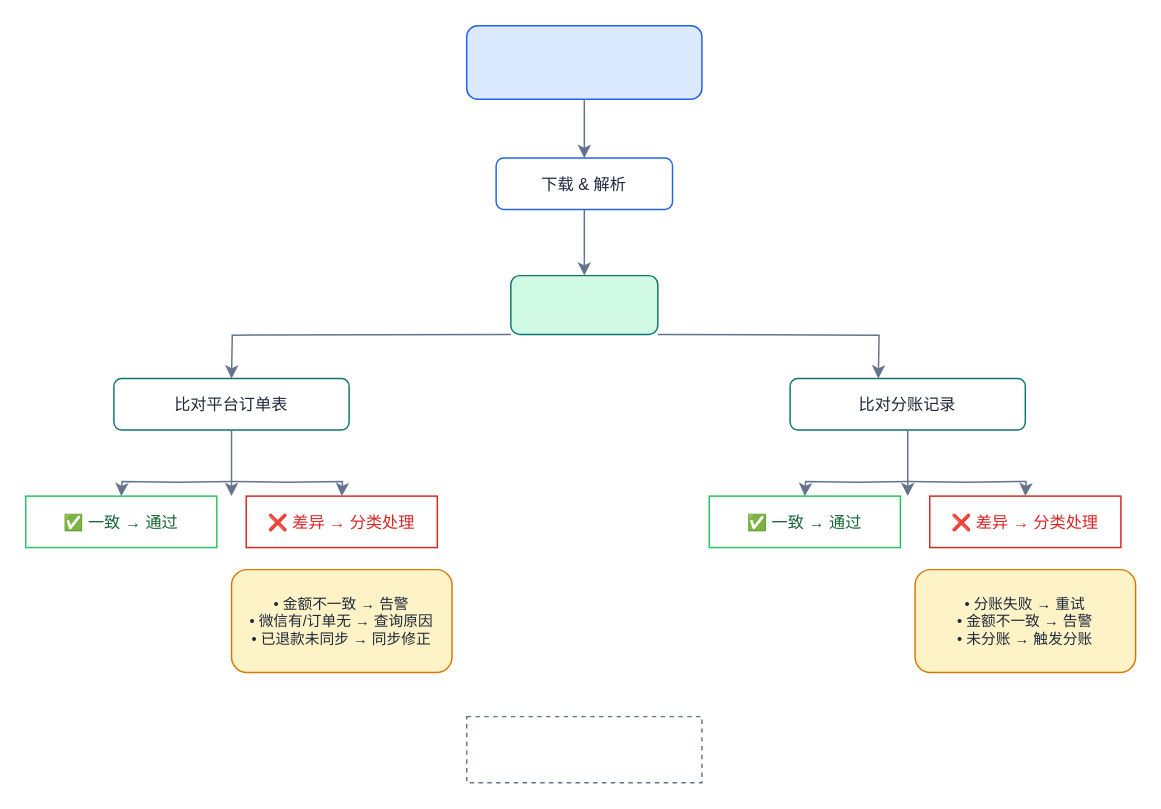
Image size: 1161x809. Some labels were removed from this diagram. The box of each missing label's shape, as (x1, y1, x2, y2) in pixels:
24h 窗口对账(非单日) 避免结算延迟导致误告警: (465, 715, 702, 783)
对账引擎: (509, 274, 658, 334)
微信账单 (平台商户号 + 各子商户): (465, 24, 702, 99)
